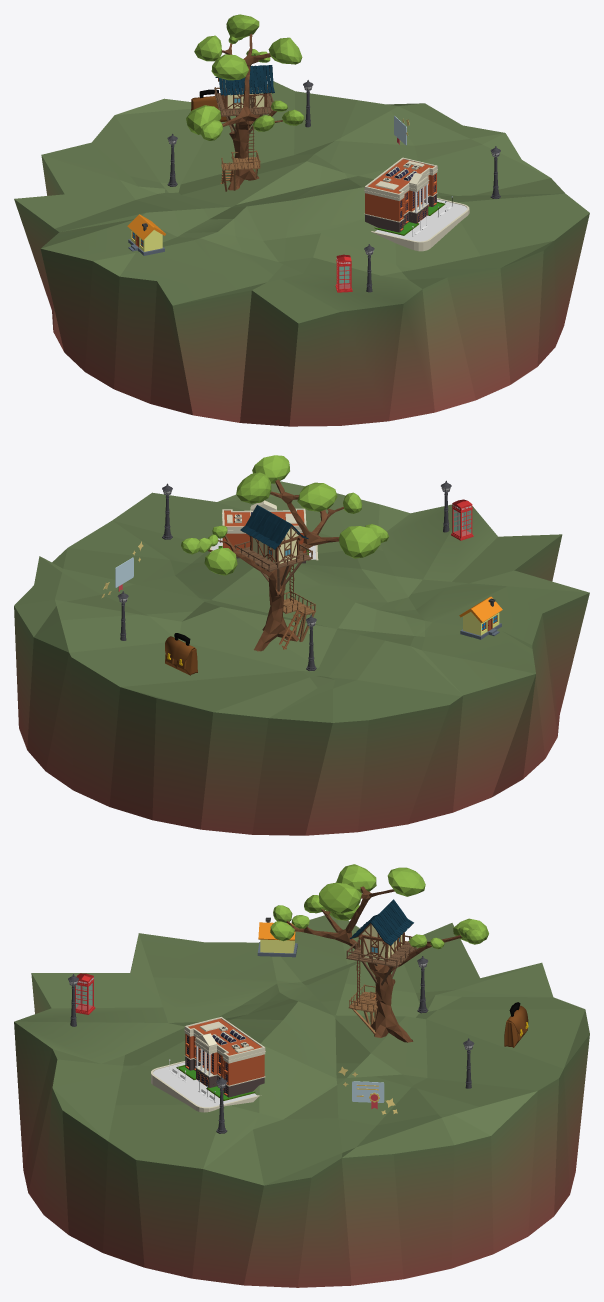
Rendered from island.glb.
3 views of the same model, one above another, from view 1: azimuth 30°, elevation 25°; view 2: azimuth 150°, elevation 25°; view 3: azimuth 270°, elevation 25° (orthographic). The views are drawn at different scales.
Parts seen in each view (by area): view 1: Cylinder, Leaves, Building, Footpath, Tree, Roof, Platform_2, Platform_1; view 2: Cylinder, Leaves, Tree, Building, Roof, Platform_2, Cube.017, Platform_1, Object_3, House_Frame, House, Roof_Roof_0; view 3: Cylinder, Leaves, Building, Tree, Footpath, Roof, Platform_2, Platform_1, Cube.017, House_Frame, Object_3, Plane.
Boxes of the visible parts, x1,y1,x2,y2 form: Cylinder: (14, 81, 589, 426); Leaves: (186, 14, 304, 140); Building: (364, 157, 437, 232); Footpath: (371, 198, 469, 251); Tree: (222, 33, 282, 190); Roof: (215, 65, 274, 95); Platform_2: (214, 85, 273, 136); Platform_1: (221, 150, 260, 191); Cylinder: (14, 481, 589, 835); Leaves: (181, 455, 388, 575); Tree: (208, 479, 343, 651); Building: (222, 500, 306, 563); Roof: (240, 505, 308, 549); Platform_2: (234, 541, 312, 591); Cube.017: (165, 636, 197, 675); Platform_1: (283, 591, 315, 641); Object_3: (451, 499, 473, 540); House_Frame: (242, 526, 306, 564); House: (253, 528, 298, 563); Roof_Roof_0: (459, 596, 502, 623); Cylinder: (14, 914, 589, 1287); Leaves: (270, 864, 488, 949); Building: (184, 1017, 265, 1097); Tree: (286, 886, 462, 1042); Footpath: (151, 1061, 261, 1112); Roof: (349, 899, 413, 945); Platform_2: (346, 935, 416, 985); Platform_1: (348, 984, 377, 1034); Cube.017: (504, 1005, 528, 1047); House_Frame: (353, 923, 412, 961); Object_3: (75, 973, 95, 1014); Plane: (352, 1081, 384, 1102).
Bounding box in the file's own units: 2.15 × 1.17 × 2.08.
52 materials, 1 textured.
